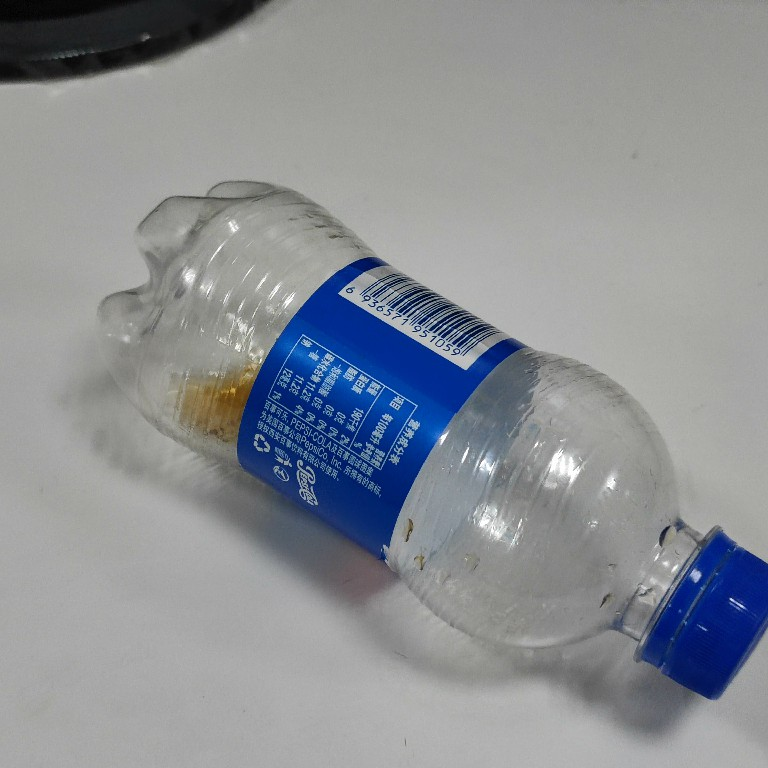bottle: (80, 175, 768, 710)
